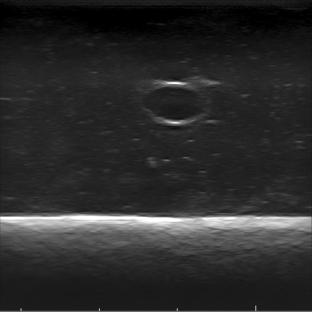vessel: (140, 80, 209, 125)
